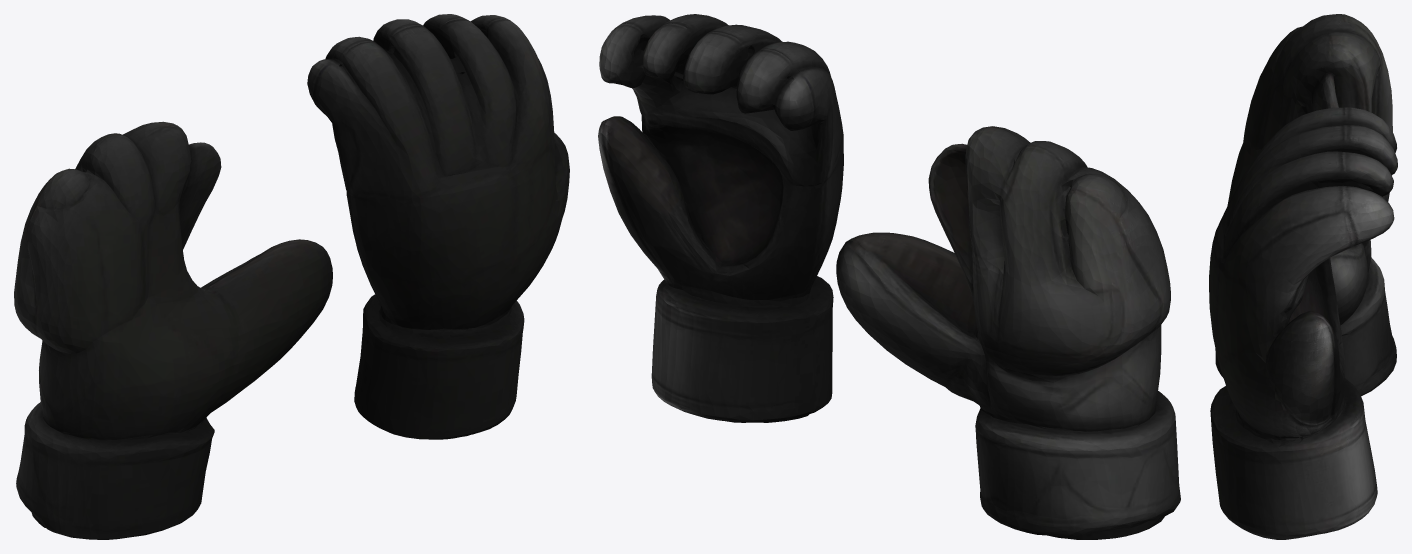
File: mma-gloves.glb
3 renders of one model, left to right at view 1: azimuth 30°, elevation 25°; view 2: azimuth 150°, elevation 25°; view 3: azimuth 270°, elevation 25°, orthographic. The views are drawn at different scales.
Parts seen in each view (by area): view 1: geometry_0; view 2: geometry_0; view 3: geometry_0.
Boxes of the visible parts, x1,y1,x2,y2 form: geometry_0: (14,14,569,539); geometry_0: (598,14,1180,539); geometry_0: (1209,14,1397,539).
Size of the model in its own units: 0.9998 by 0.7 by 0.2989.
1 material, 1 textured.
